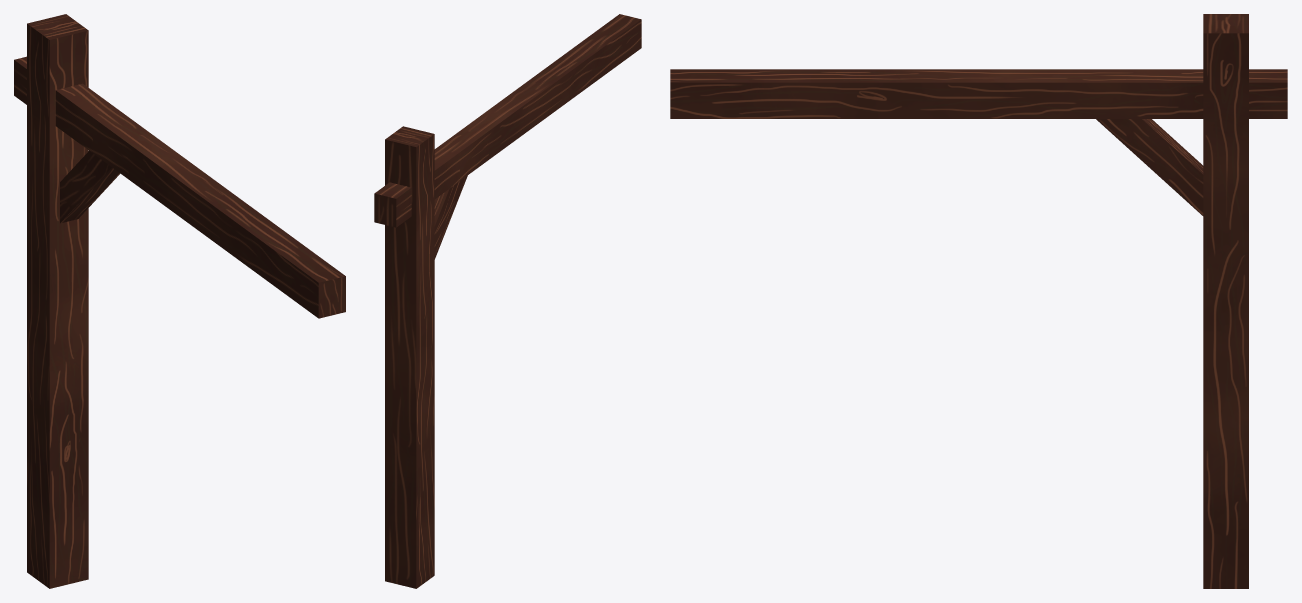
Rendered from structure.fbx.
3 renders of one model, left to right at view 1: azimuth 30°, elevation 25°; view 2: azimuth 150°, elevation 25°; view 3: azimuth 270°, elevation 25°, orthographic. The views are drawn at different scales.
Visible parts, largest first — view 1: pCube4; view 2: pCube4; view 3: pCube4.
Part boxes in pixels (box(x1,y1,x2,y2)): pCube4: box(14, 14, 345, 588); pCube4: box(374, 14, 641, 588); pCube4: box(670, 14, 1287, 588).
Size of the model in its own units: 9.38 by 126 by 127.
